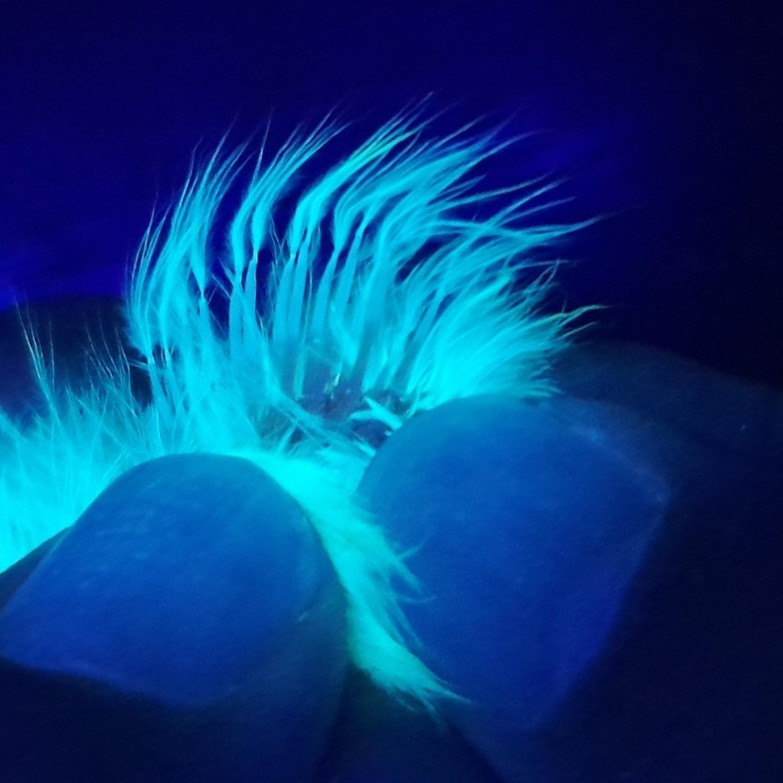male: (152, 210, 466, 451)
